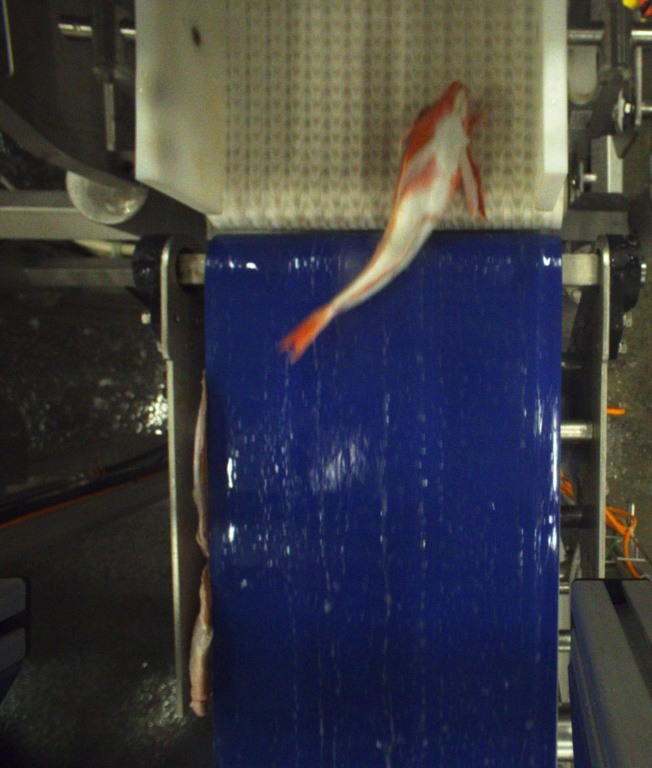GUU: (283, 77, 486, 361)
